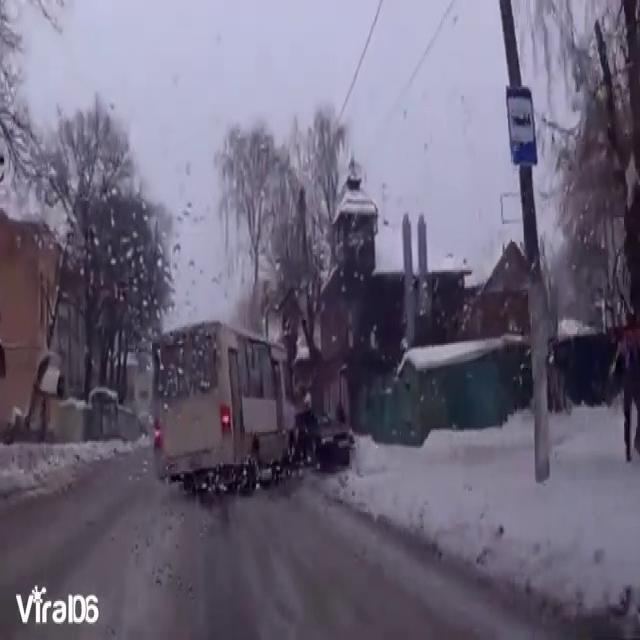moderate: (139, 310, 359, 494)
